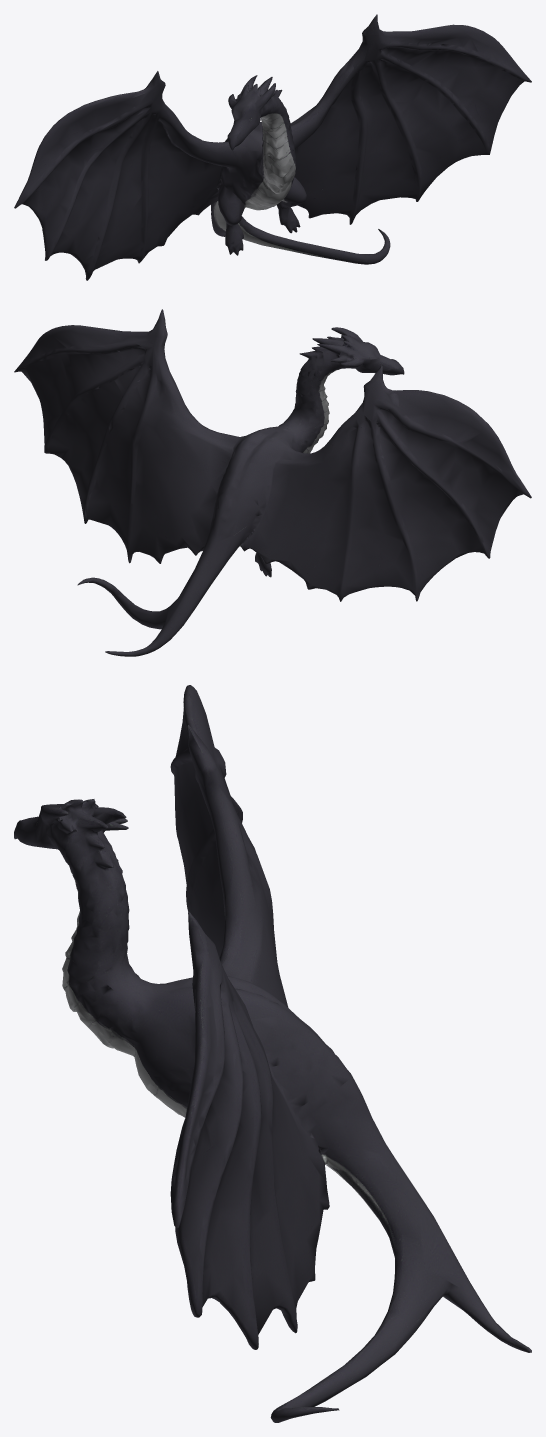
File: sky_terror.glb
The picture shows the model from 3 angles, top to bottom: view 1: azimuth 30°, elevation 25°; view 2: azimuth 150°, elevation 25°; view 3: azimuth 270°, elevation 25°; orthographic projection. The views are drawn at different scales.
Size of the model in its own units: 1.91 by 0.9668 by 0.9221.
Materials: 1 (1 with a texture image).
